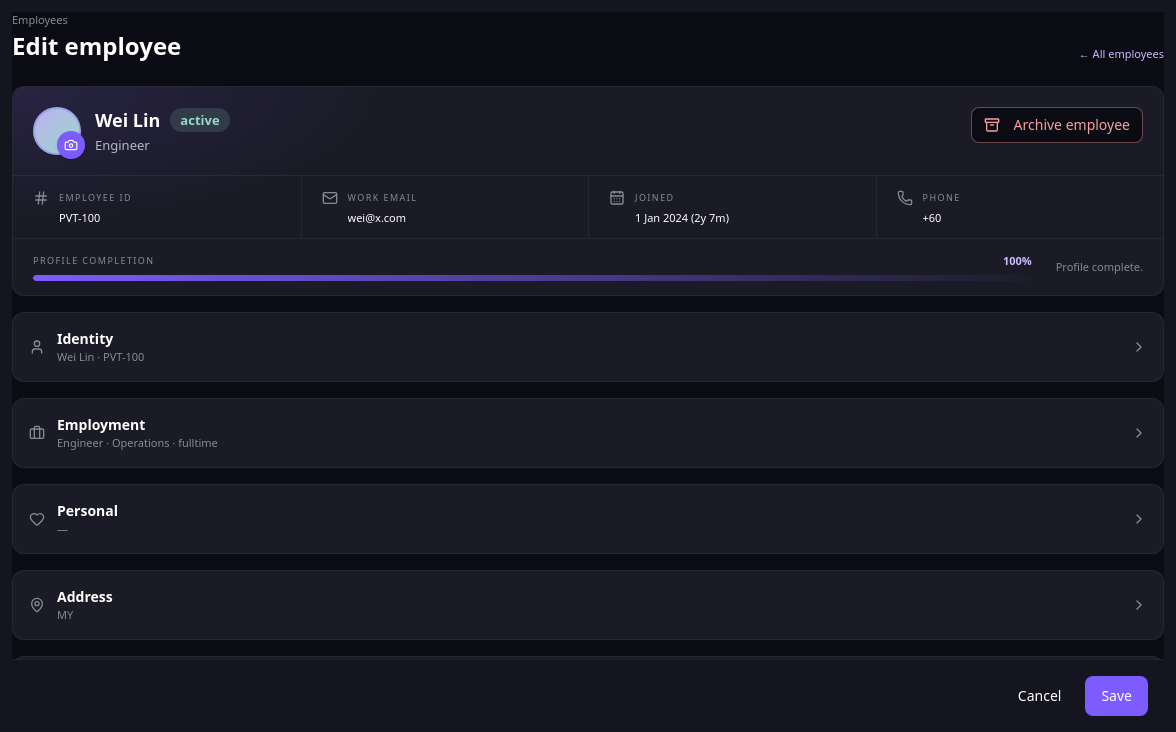
EmployeeFormPage — edit › pre-fills the form from the loaded employee
This screenshot has width=1176, height=732.
Click the button with aria-label "toggle identity" at (85, 338), box [13,313,1163,381]
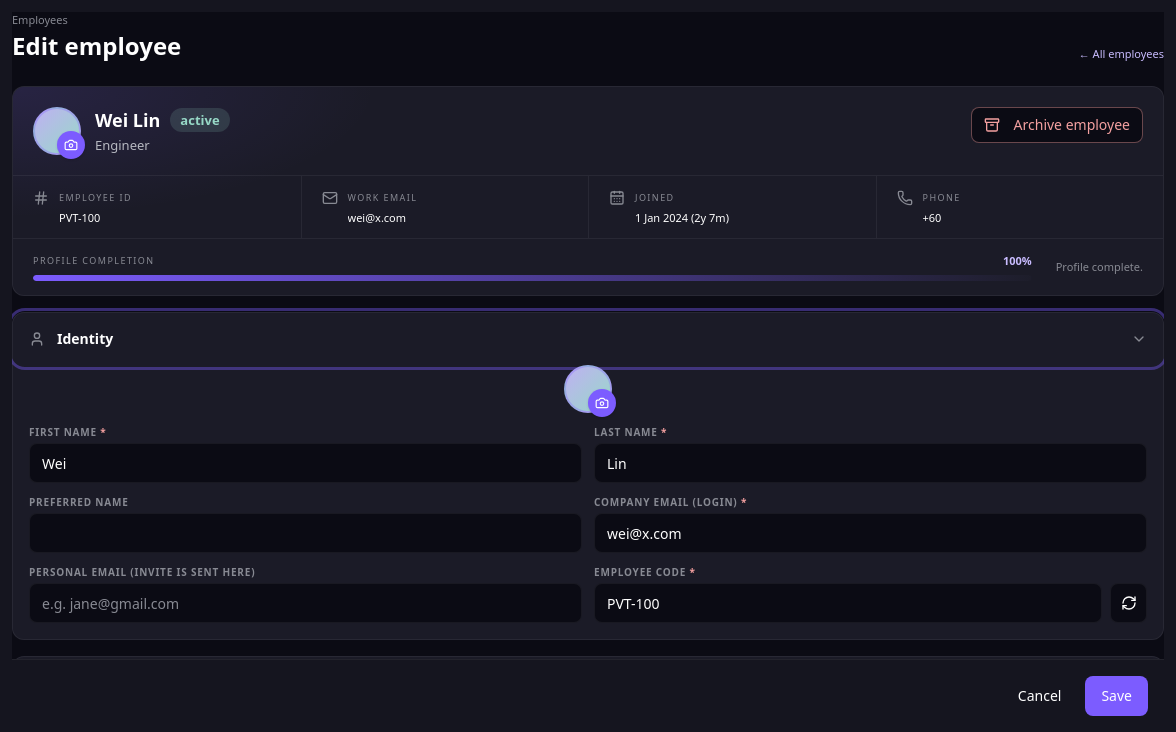
Expected: the field showing "Wei" is shown, [29,443,582,483]
Expected: the field showing "Lin" is shown, [594,443,1147,483]
Expected: the field showing "PVT-100" is shown, [594,583,1102,623]
